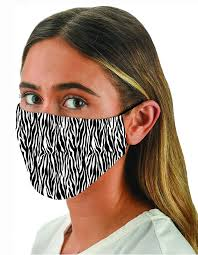with-mask: (10, 9, 159, 205)
